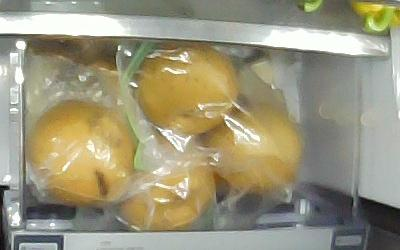pear_vinyl: (24, 98, 138, 206), (134, 40, 236, 134), (118, 131, 216, 228), (201, 104, 301, 191)
